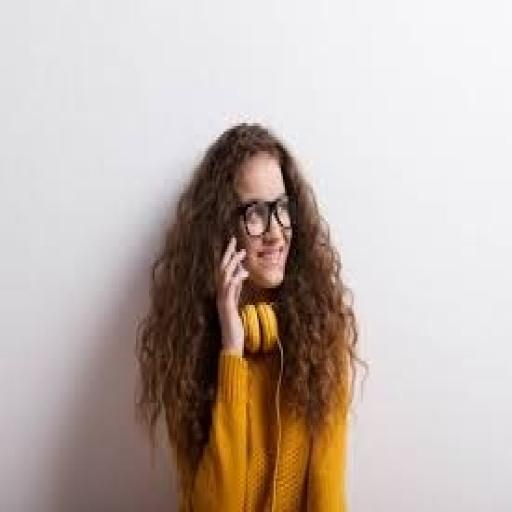calling: (132, 120, 365, 510)
